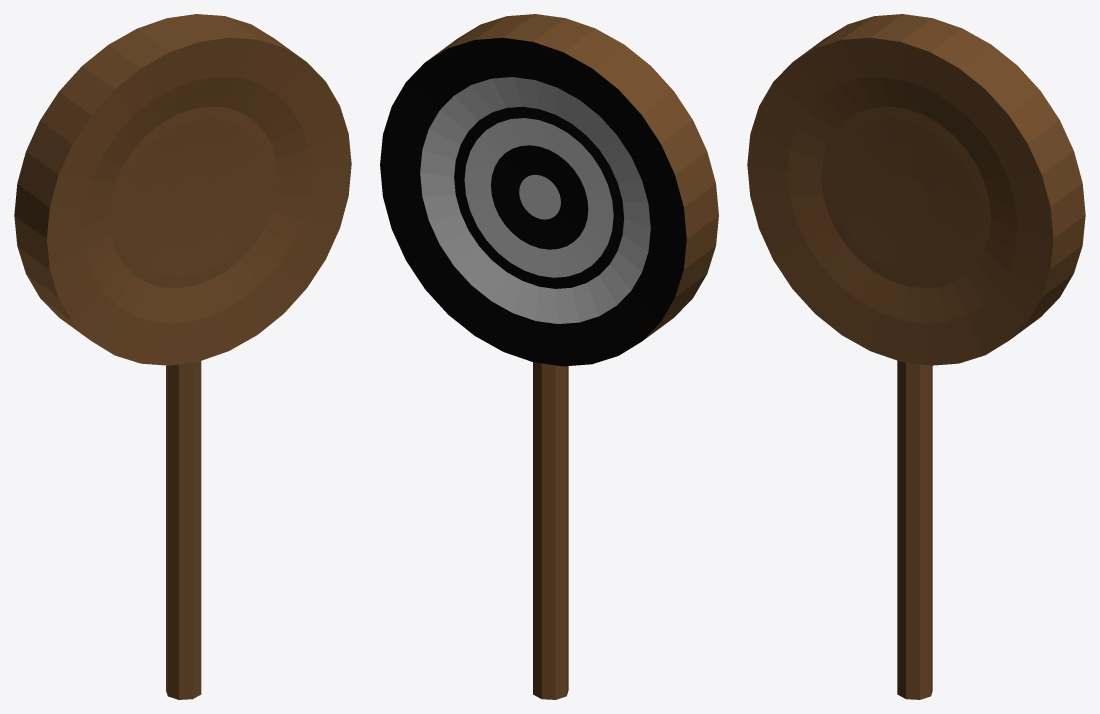
File: targetEnemy.FBX
The picture shows the model from 3 angles, left to right: view 1: azimuth 30°, elevation 25°; view 2: azimuth 150°, elevation 25°; view 3: azimuth 330°, elevation 25°; orthographic projection.
Parts seen in each view (by area): view 1: Cylinder; view 2: Cylinder; view 3: Cylinder.
Boxes of the visible parts, x1,y1,x2,y2 form: Cylinder: (14,14,351,699); Cylinder: (380,14,718,699); Cylinder: (747,14,1085,699).
Size of the model in its own units: 0.6489 by 1.34 by 0.1214.
